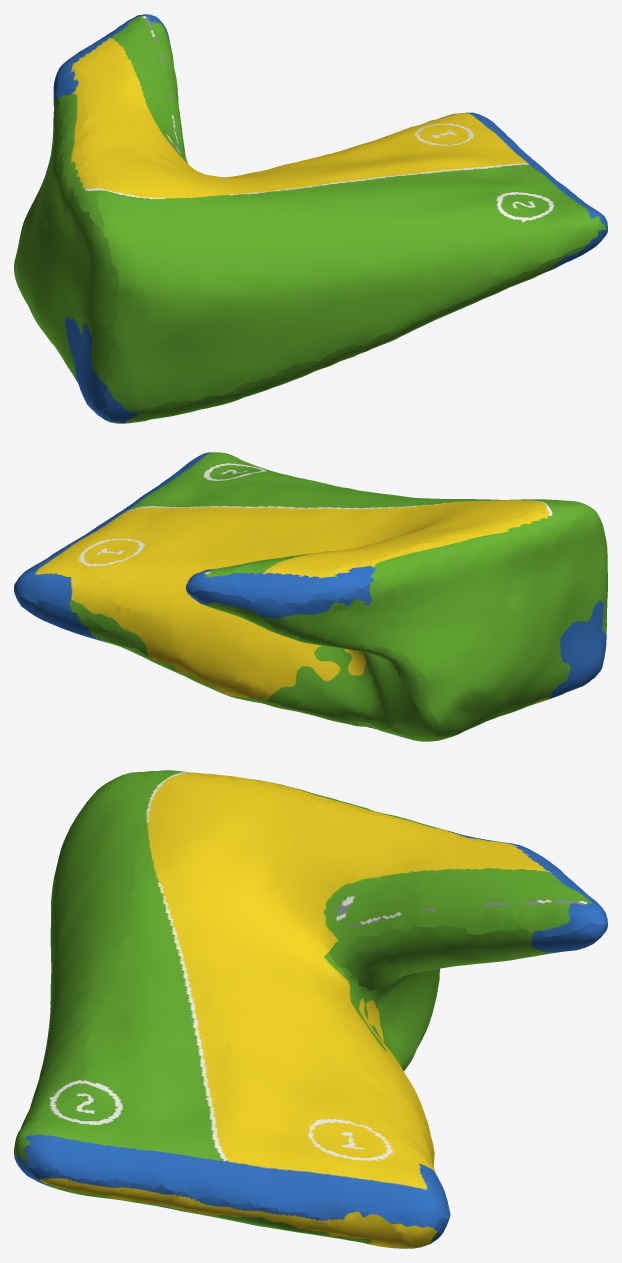
The picture shows the model from 3 angles, top to bottom: view 1: azimuth 30°, elevation 25°; view 2: azimuth 150°, elevation 25°; view 3: azimuth 270°, elevation 25°; orthographic projection. The views are drawn at different scales.
Parts seen in each view (by area): view 1: geometry_0; view 2: geometry_0; view 3: geometry_0.
Part boxes in pixels (x1=…): geometry_0: x1=14, y1=14, x2=607, y2=423; geometry_0: x1=14, y1=452, x2=607, y2=741; geometry_0: x1=14, y1=770, x2=607, y2=1248.
Size of the model in its own units: 0.824 by 0.3189 by 0.6586.
Materials: 1 (1 with a texture image).
